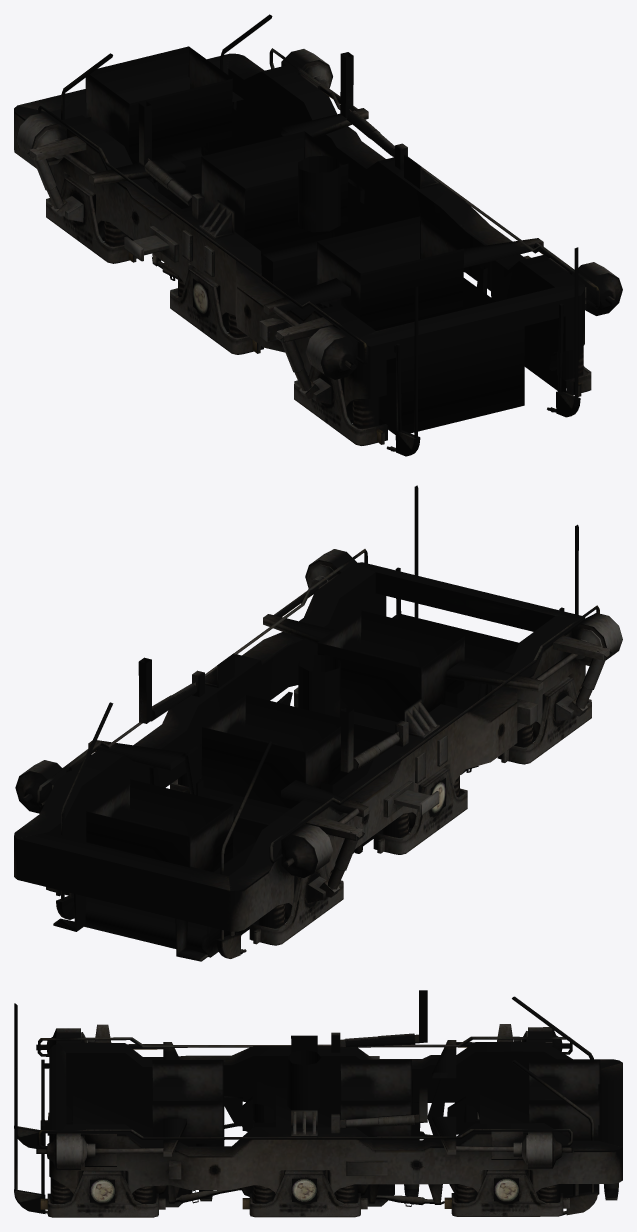
The model's file is truck.glb.
3 views of the same model, one above another, from view 1: azimuth 30°, elevation 25°; view 2: azimuth 150°, elevation 25°; view 3: azimuth 270°, elevation 25° (orthographic). The views are drawn at different scales.
Visible parts, largest first — view 1: DrawCall_0047_26; view 2: DrawCall_0047_26; view 3: DrawCall_0047_26, DrawCall_0056_18, DrawCall_0050_19, DrawCall_0053_23.
Boxes of the visible parts, box(x1,y1,x2,y2) form: DrawCall_0047_26: box(14, 14, 622, 456); DrawCall_0047_26: box(14, 485, 622, 961); DrawCall_0047_26: box(14, 990, 622, 1217); DrawCall_0056_18: box(494, 1178, 518, 1201); DrawCall_0050_19: box(90, 1179, 114, 1202); DrawCall_0053_23: box(292, 1178, 316, 1201).
Bounding box in the file's own units: 2.92 × 1.69 × 5.94.
Materials: 2 (2 with a texture image).
